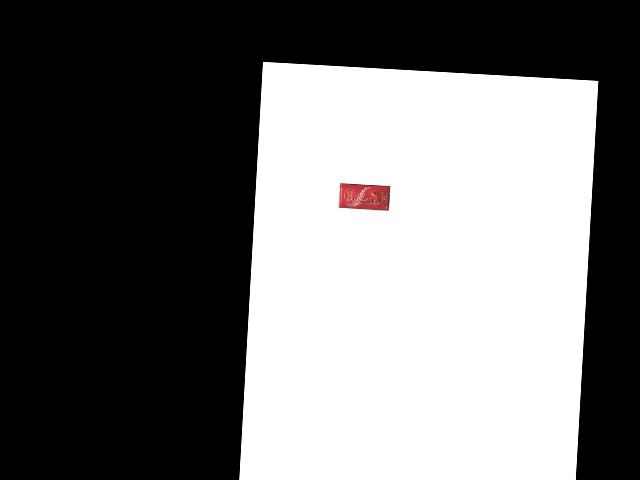chocolate: (337, 182, 394, 212)
